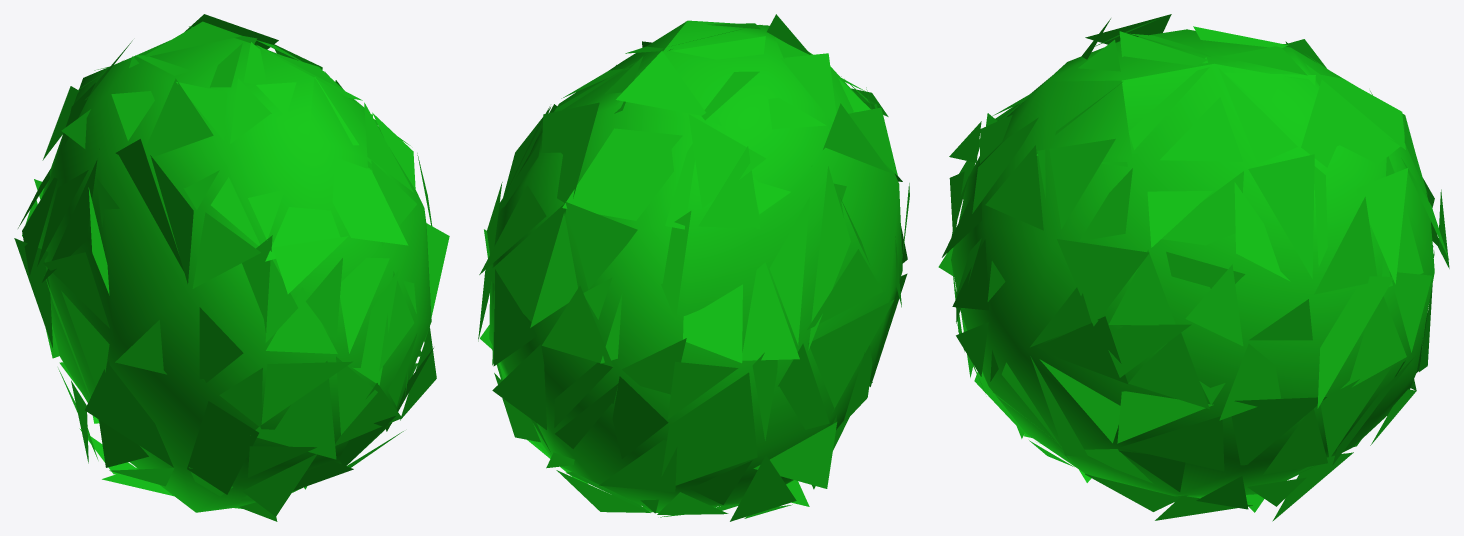
File: bush_008.fbx
3 renders of one model, left to right at view 1: azimuth 30°, elevation 25°; view 2: azimuth 150°, elevation 25°; view 3: azimuth 270°, elevation 25°, orthographic. The views are drawn at different scales.
Parts seen in each view (by area): view 1: bush.008; view 2: bush.008; view 3: bush.008.
Part boxes in pixels (x1,y1,x2,y2): bush.008: (14, 14, 449, 521); bush.008: (478, 14, 909, 521); bush.008: (938, 14, 1449, 521).
Bounding box in the file's own units: 170 × 222 × 223.
